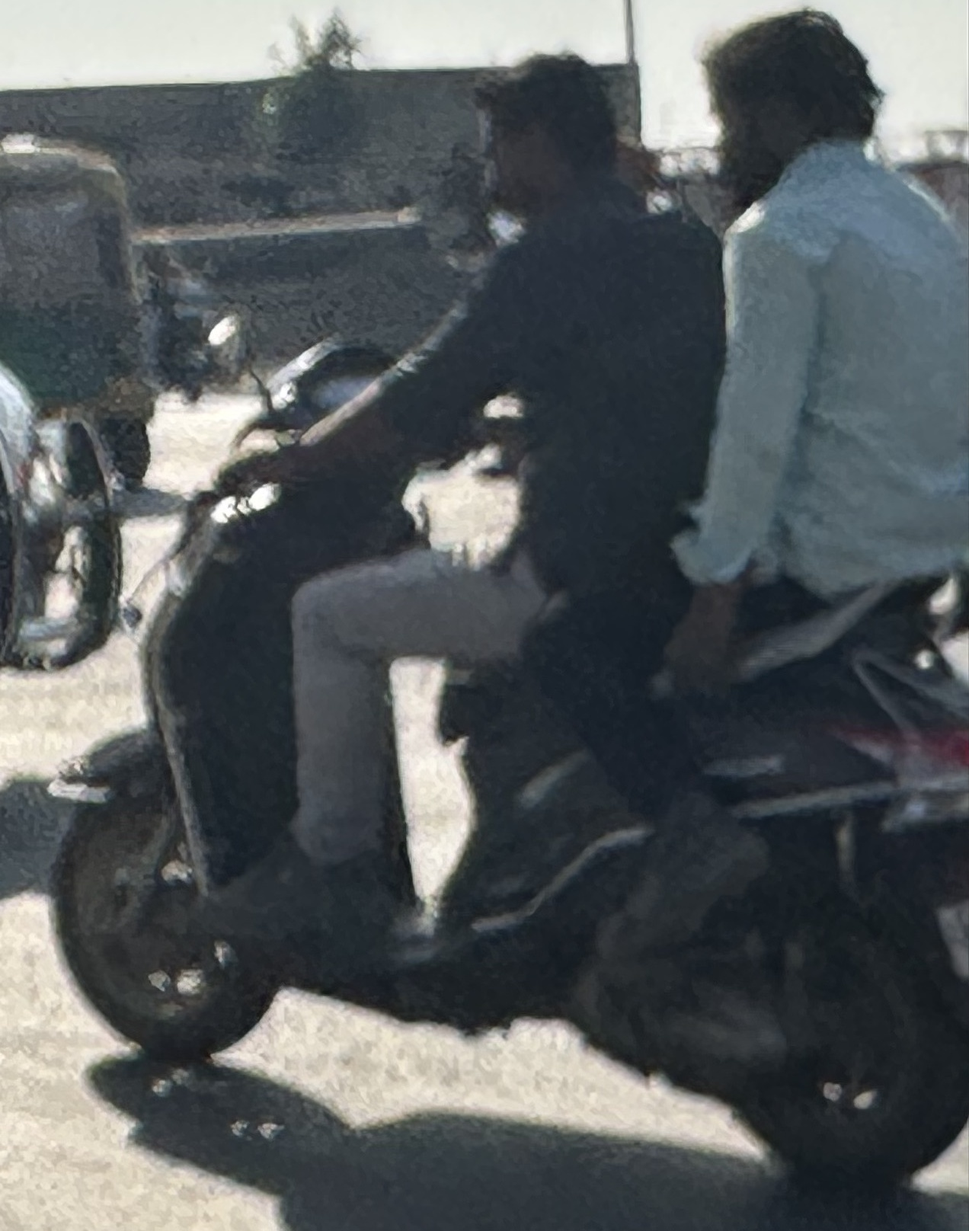BikeWithRider: (16, 0, 969, 1196)
NoHelmet: (683, 0, 897, 223), (453, 43, 632, 248)
